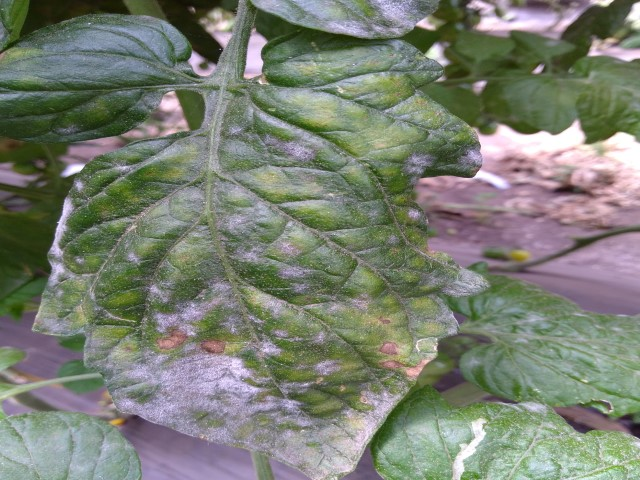oidio: (122, 349, 311, 447), (155, 295, 244, 340), (43, 194, 82, 282), (282, 256, 320, 306), (258, 318, 293, 358), (234, 241, 271, 276), (318, 353, 346, 382)
